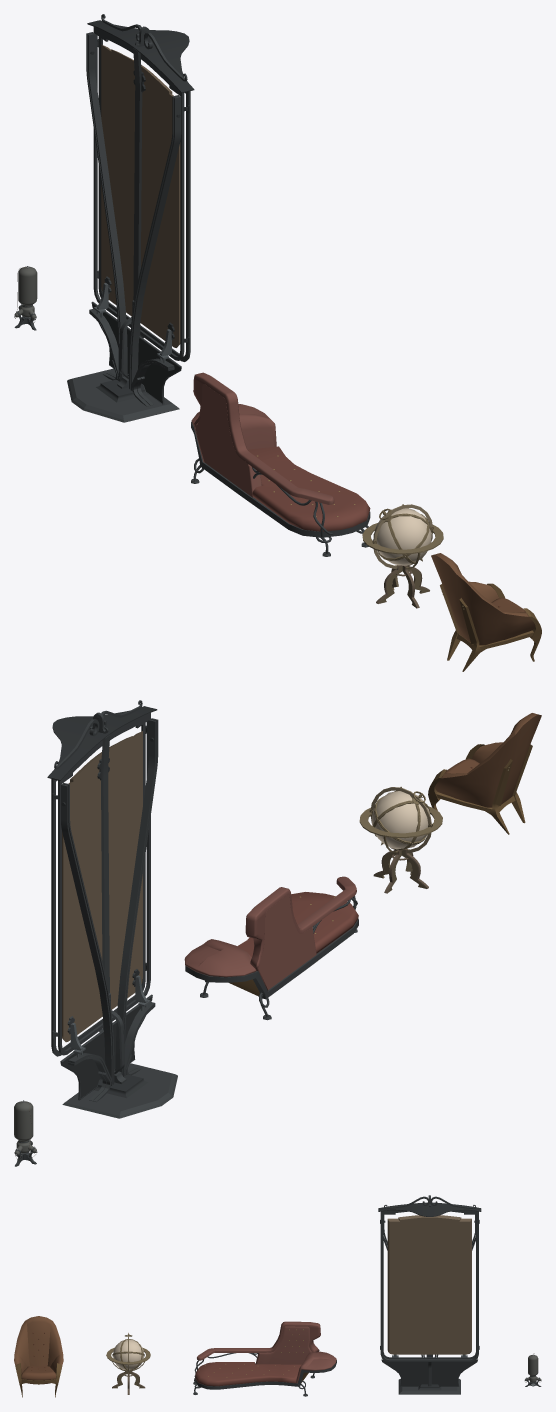
3 renders of one model, top to bottom at view 1: azimuth 30°, elevation 25°; view 2: azimuth 150°, elevation 25°; view 3: azimuth 270°, elevation 25°, orthographic. The views are drawn at different scales.
Parts seen in each view (by area): view 1: pCube58, seat, back, polySurface14, polySurface18, polySurface13, pCube70, pCube63, polySurface20, polySurface19, pCube62, pCube32 (+5 smaller); view 2: pCube58, back, polySurface14, polySurface18, pCube70, pCube86, polySurface19, polySurface13, pCube85, polySurface20, seat, pCube51 (+11 smaller); view 3: pCube58, seat (×2), back, polySurface21, polySurface20, polySurface14, polySurface13, polySurface19, pCube32, pCube51, pCube50, pCube70 (+2 smaller).
Boxes of the visible parts, left/top/right/bottom form: pCube58: left=101, top=44, right=180, bottom=347; seat: left=248, top=446, right=370, bottom=531; back: left=431, top=553, right=535, bottom=645; polySurface14: left=195, top=384, right=261, bottom=497; polySurface18: left=93, top=27, right=184, bottom=360; polySurface13: left=193, top=372, right=334, bottom=504; pCube70: left=67, top=368, right=179, bottom=422; pCube63: left=88, top=33, right=127, bottom=381; polySurface20: left=98, top=36, right=190, bottom=361; polySurface19: left=87, top=20, right=194, bottom=93; pCube62: left=130, top=96, right=181, bottom=389; pCube32: left=375, top=508, right=431, bottom=565; pCube58: left=62, top=731, right=142, bottom=1042; back: left=435, top=713, right=541, bottom=807; polySurface14: left=258, top=894, right=316, bottom=989; polySurface18: left=58, top=712, right=150, bottom=1055; pCube70: left=62, top=1063, right=177, bottom=1118; pCube86: left=115, top=719, right=156, bottom=1076; polySurface19: left=47, top=706, right=157, bottom=780; polySurface13: left=245, top=876, right=356, bottom=990; pCube85: left=61, top=784, right=112, bottom=1082; polySurface20: left=51, top=723, right=145, bottom=1056; seat: left=237, top=892, right=358, bottom=957; pCube51: left=184, top=939, right=255, bottom=977; pCube58: left=387, top=1215, right=471, bottom=1354; seat (×2): left=21, top=1362, right=301, bottom=1386; back: left=14, top=1316, right=63, bottom=1384; polySurface21: left=382, top=1360, right=477, bottom=1386; polySurface20: left=380, top=1210, right=478, bottom=1361; polySurface14: left=255, top=1326, right=311, bottom=1364; polySurface13: left=197, top=1321, right=320, bottom=1360; polySurface19: left=378, top=1202, right=481, bottom=1216; pCube32: left=113, top=1339, right=143, bottom=1370; pCube51: left=296, top=1351, right=336, bottom=1383; pCube50: left=195, top=1360, right=336, bottom=1389; pCube70: left=398, top=1378, right=460, bottom=1394.
Size of the model in its own units: 6.24 by 19.84 by 47.98.
